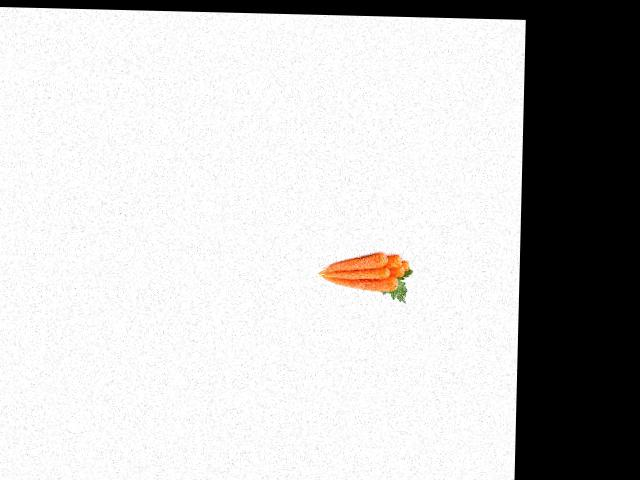carrot: (400, 259, 413, 272)
